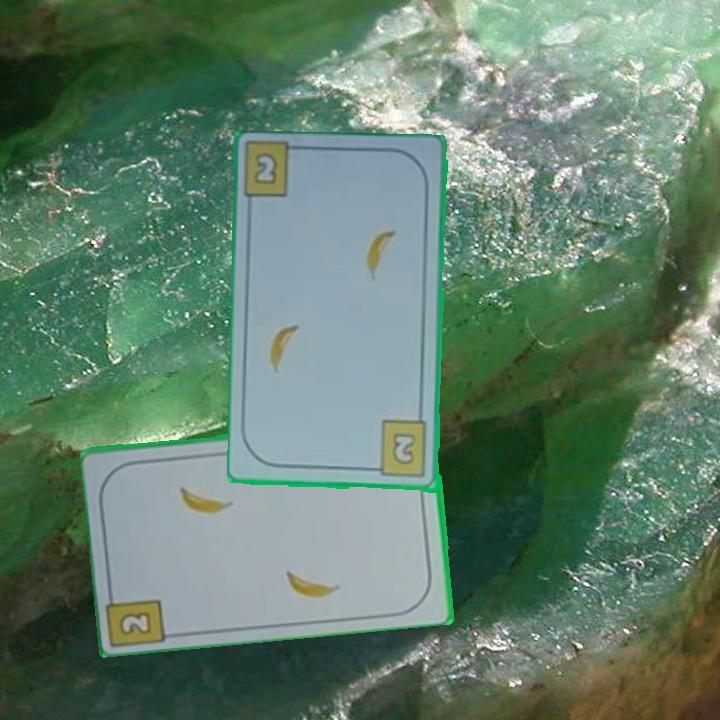2b: (368, 418, 431, 480), (116, 607, 155, 638), (251, 149, 280, 188)
